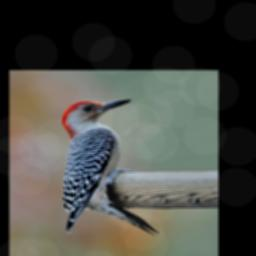Woodpecker: (53, 93, 167, 245)
